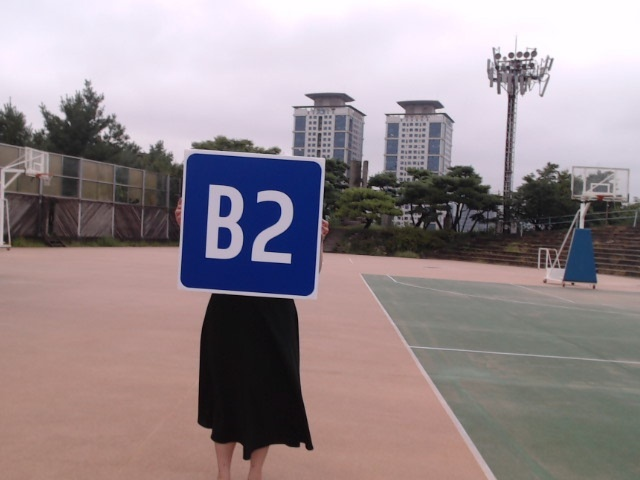delivery_b2: (179, 152, 323, 299)
